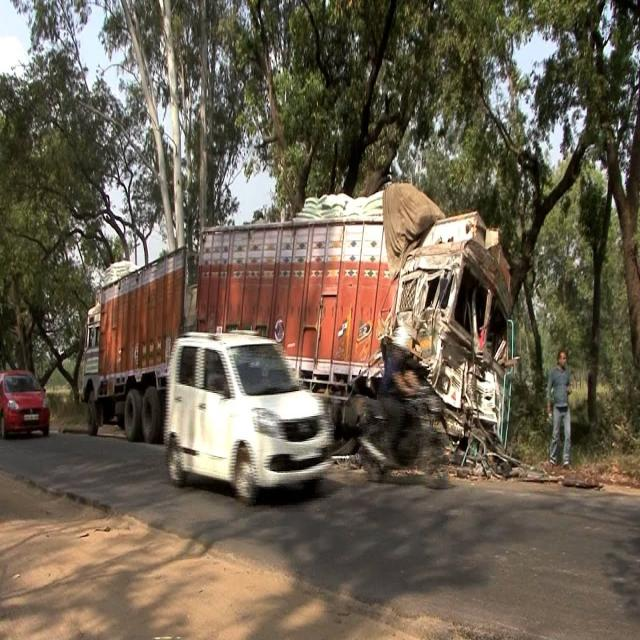accident: (196, 182, 512, 461)
car: (165, 331, 329, 502), (0, 369, 50, 438)
truck: (80, 249, 186, 442)
